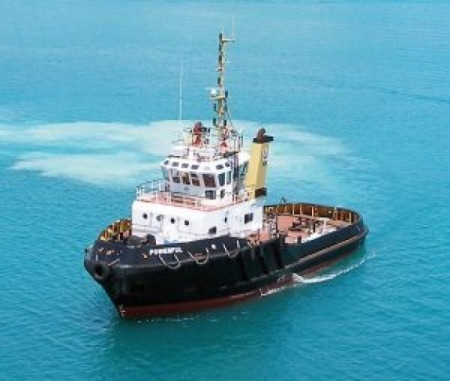otherboat: (74, 33, 369, 322)
